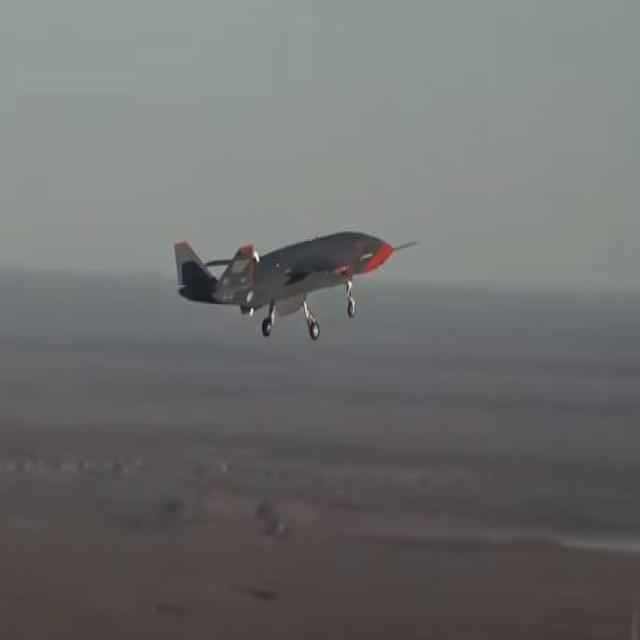iha: (174, 259, 420, 308)
